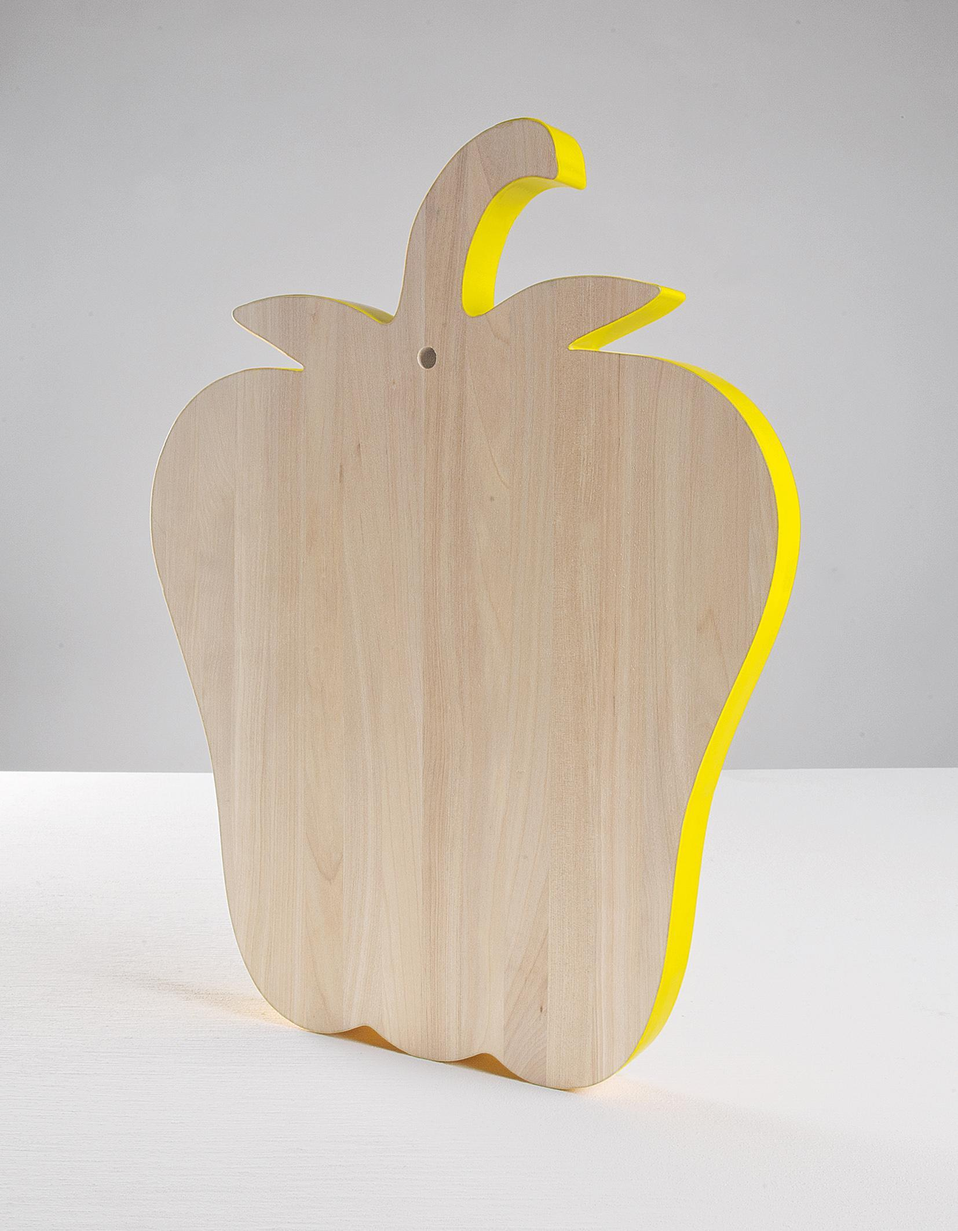gloved_hand: (148, 96, 817, 1102)
